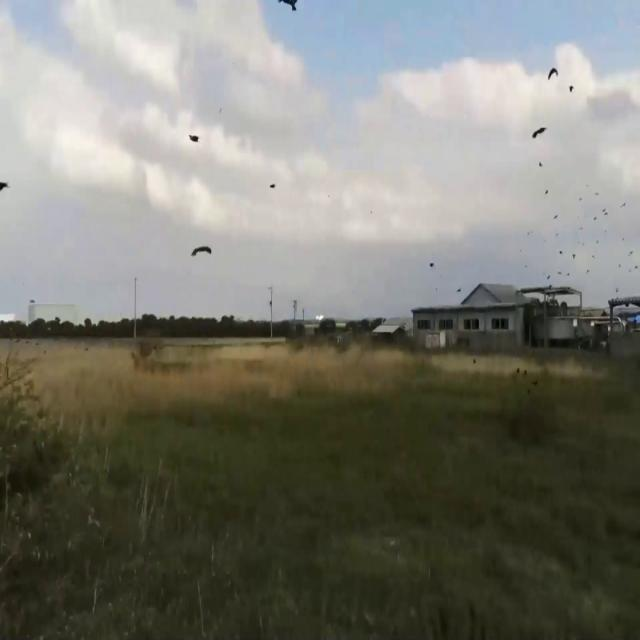bird: (190, 232, 212, 274), (532, 116, 548, 150), (547, 57, 559, 91), (188, 125, 200, 155), (282, 1, 298, 23)
